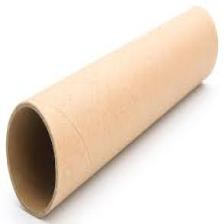cardboard: (11, 4, 217, 223)
